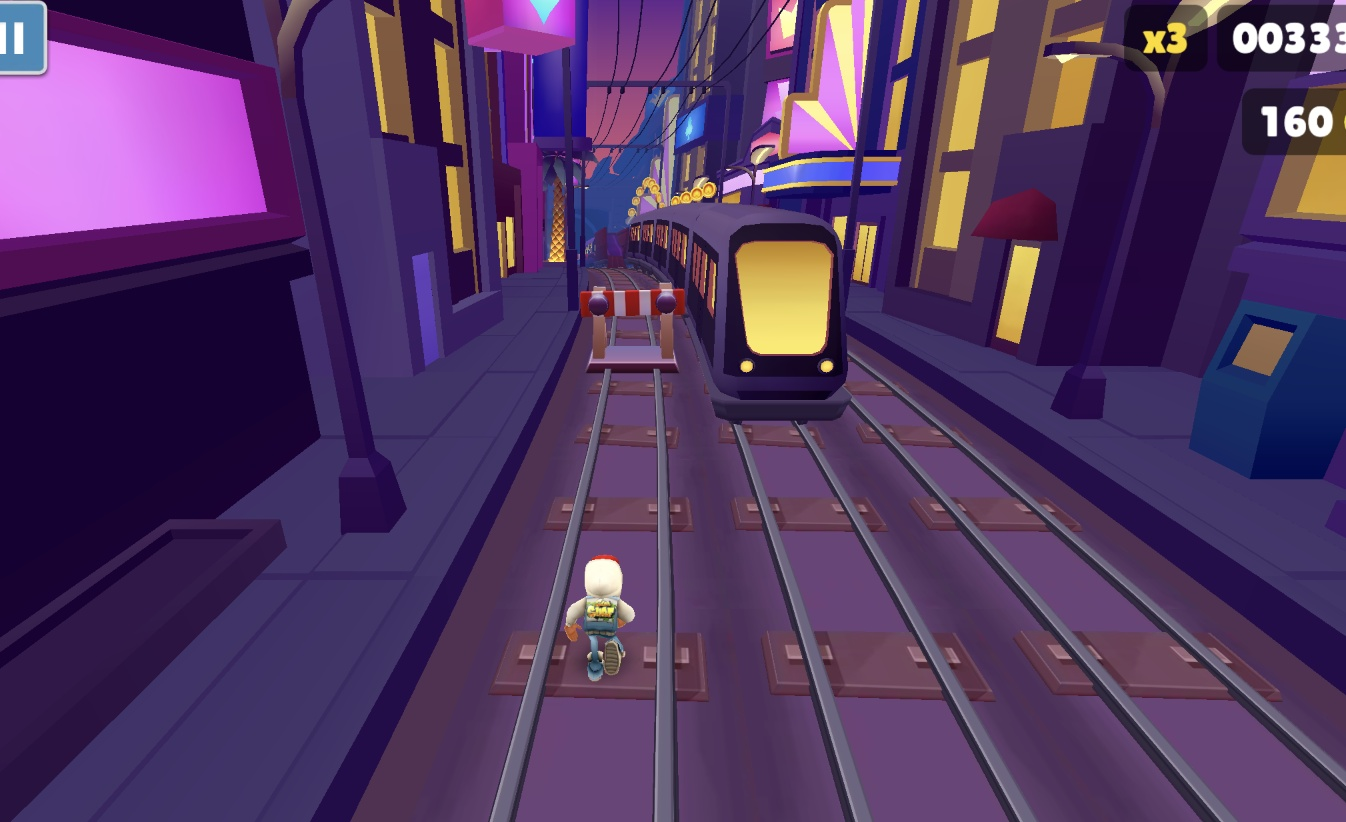ground_barrier: (579, 286, 687, 375)
train: (626, 202, 850, 423), (607, 228, 629, 271)
